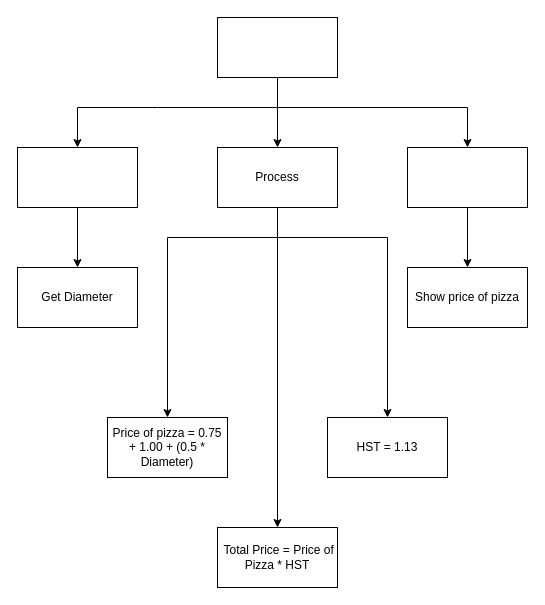
This 545x605 diagram has some shape labels left out. The box of each missing label's shape, as (x1, y1, x2, y2) in pixels:
Input: (16, 146, 138, 208)
Output: (406, 146, 528, 208)
Pizza Diameter Program: (216, 16, 338, 78)
